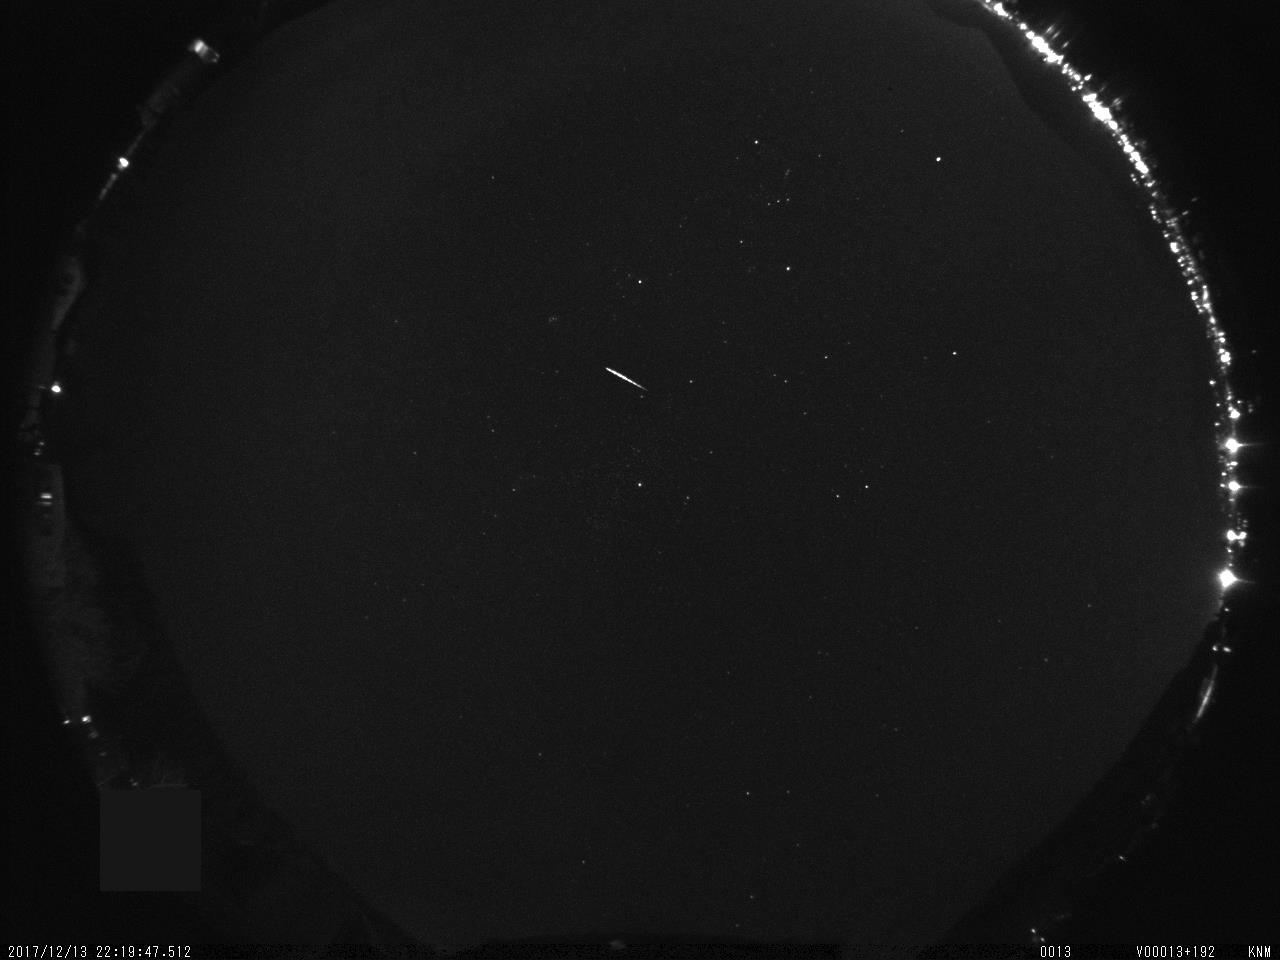meteor: (590, 351, 661, 411)
